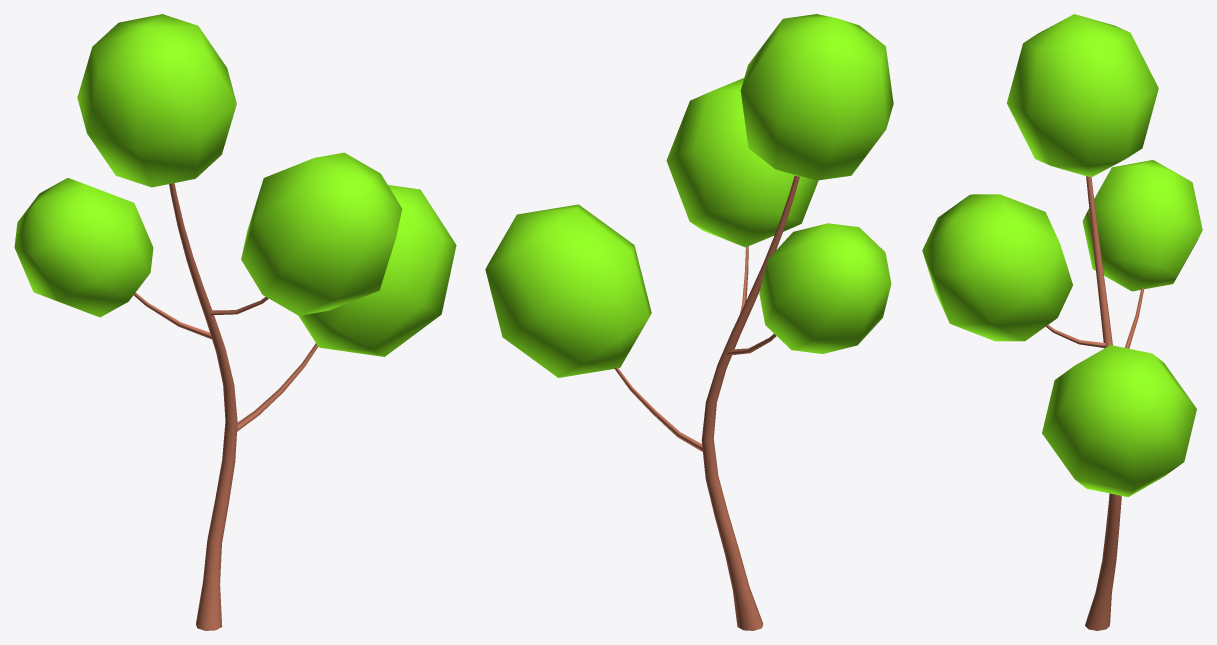
File: Tree_Bobo1.fbx
The picture shows the model from 3 angles, left to right: view 1: azimuth 30°, elevation 25°; view 2: azimuth 150°, elevation 25°; view 3: azimuth 270°, elevation 25°; orthographic projection. The views are drawn at different scales.
Visible parts, largest first — view 1: Mesh; view 2: Mesh; view 3: Mesh.
Boxes of the visible parts, box(x1,y1,x2,y2) form: Mesh: box(14, 14, 456, 630); Mesh: box(485, 14, 893, 630); Mesh: box(922, 14, 1202, 630).
Bounding box in the file's own units: 1643 × 2403 × 1058.
